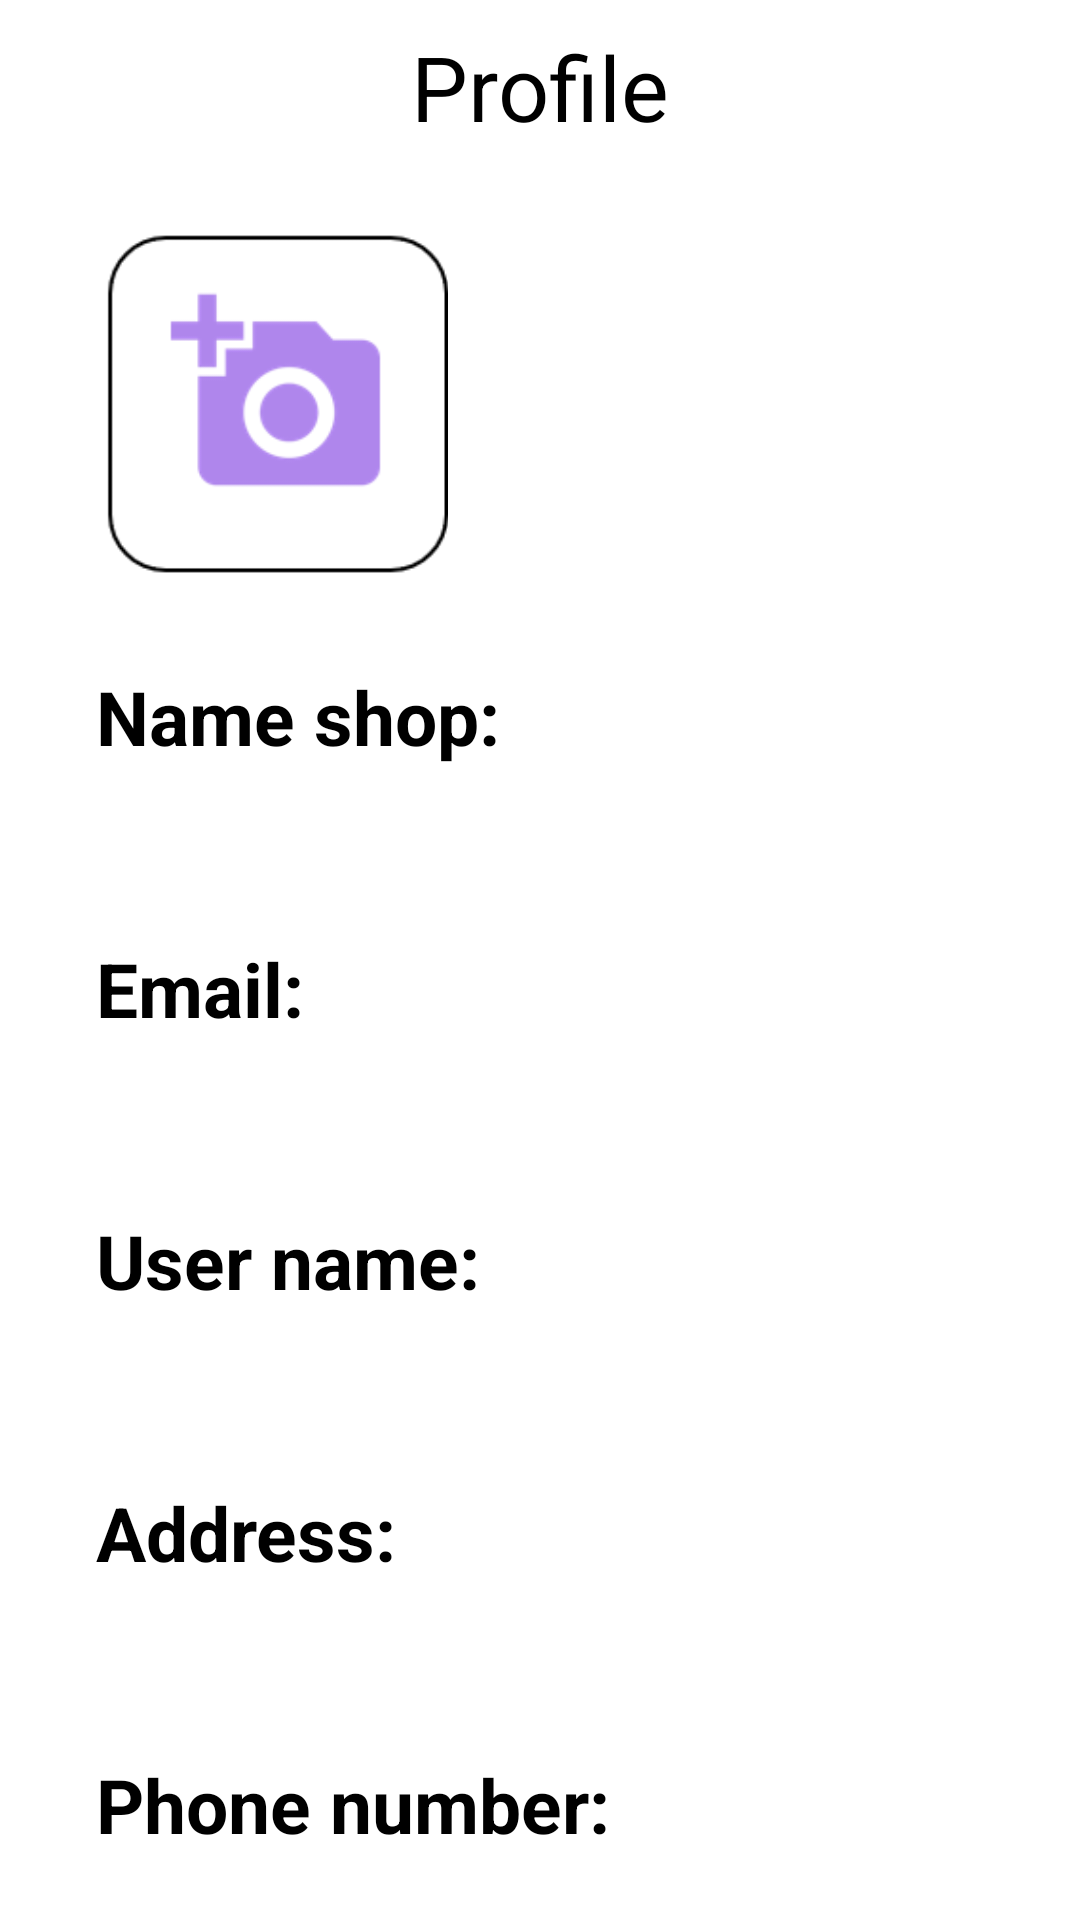

Where icons sit on this 1080w x 1920h app screen, as (x1, y1, x2, y2):
imgphoto: (107, 235, 448, 573)
